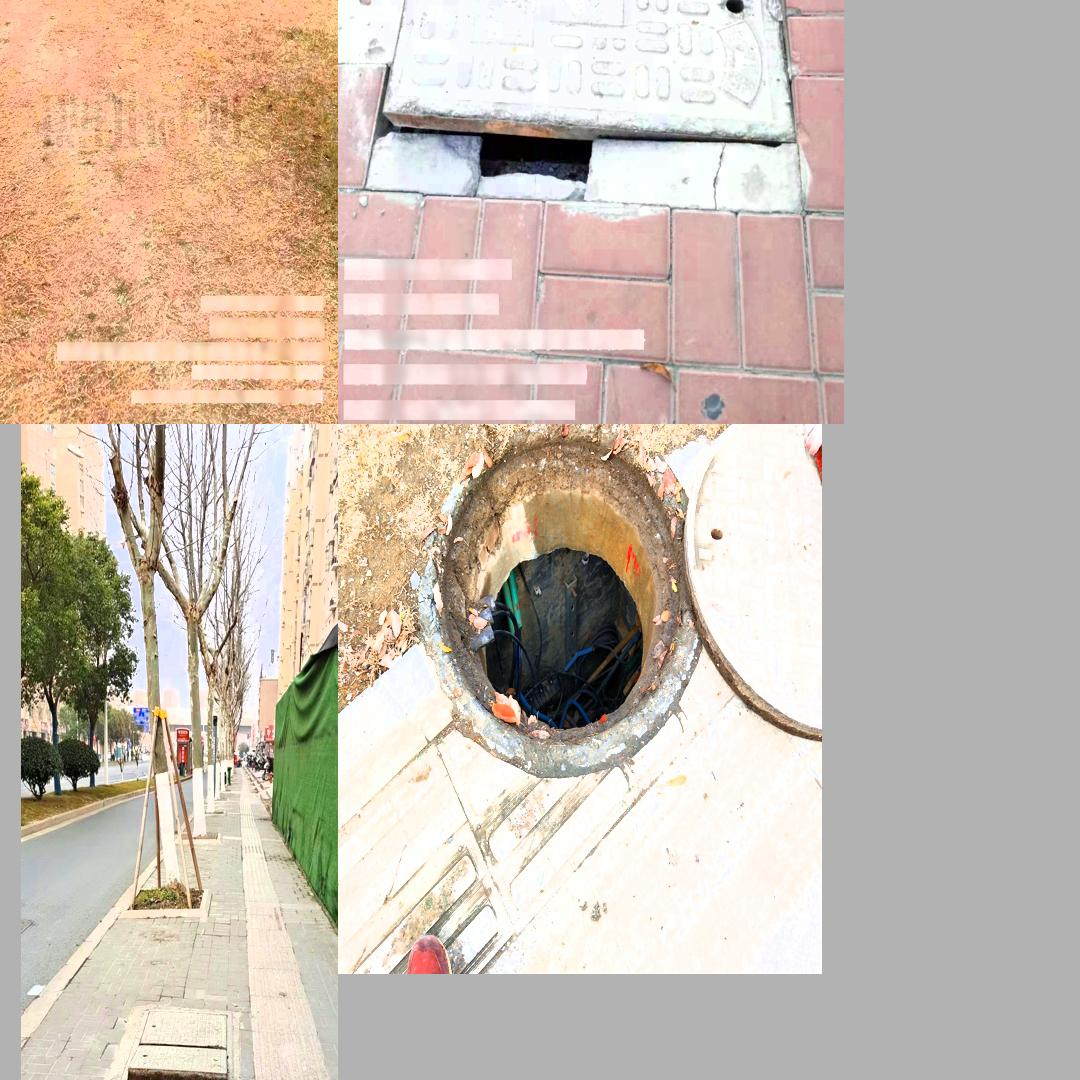uncovered: (421, 424, 820, 778), (373, 0, 798, 172), (119, 1002, 232, 1080)
